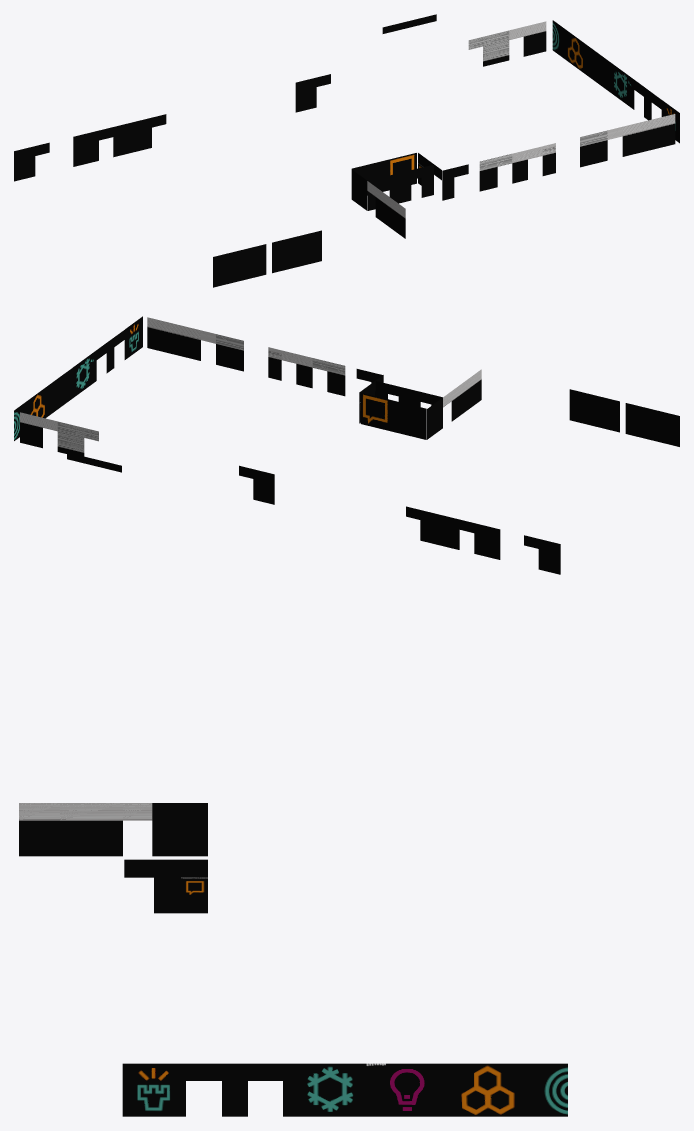
Rendered from TELLUS_arena_tellus_windows_001.FBX.
The picture shows the model from 3 angles, top to bottom: view 1: azimuth 30°, elevation 25°; view 2: azimuth 150°, elevation 25°; view 3: azimuth 270°, elevation 25°; orthographic projection. The views are drawn at different scales.
Visible parts, largest first — view 1: TELLUS_arena_tellus_windows_001; view 2: TELLUS_arena_tellus_windows_001; view 3: TELLUS_arena_tellus_windows_001.
Part boxes in pixels (bbox=[...]): TELLUS_arena_tellus_windows_001: bbox=[14, 14, 679, 287]; TELLUS_arena_tellus_windows_001: bbox=[14, 316, 679, 574]; TELLUS_arena_tellus_windows_001: bbox=[19, 803, 567, 1116].
Size of the model in its own units: 5875 by 3593 by 346.
